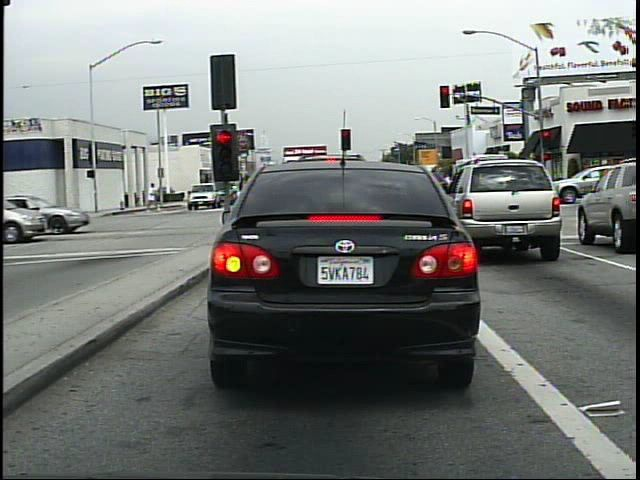person: (141, 180, 162, 217)
